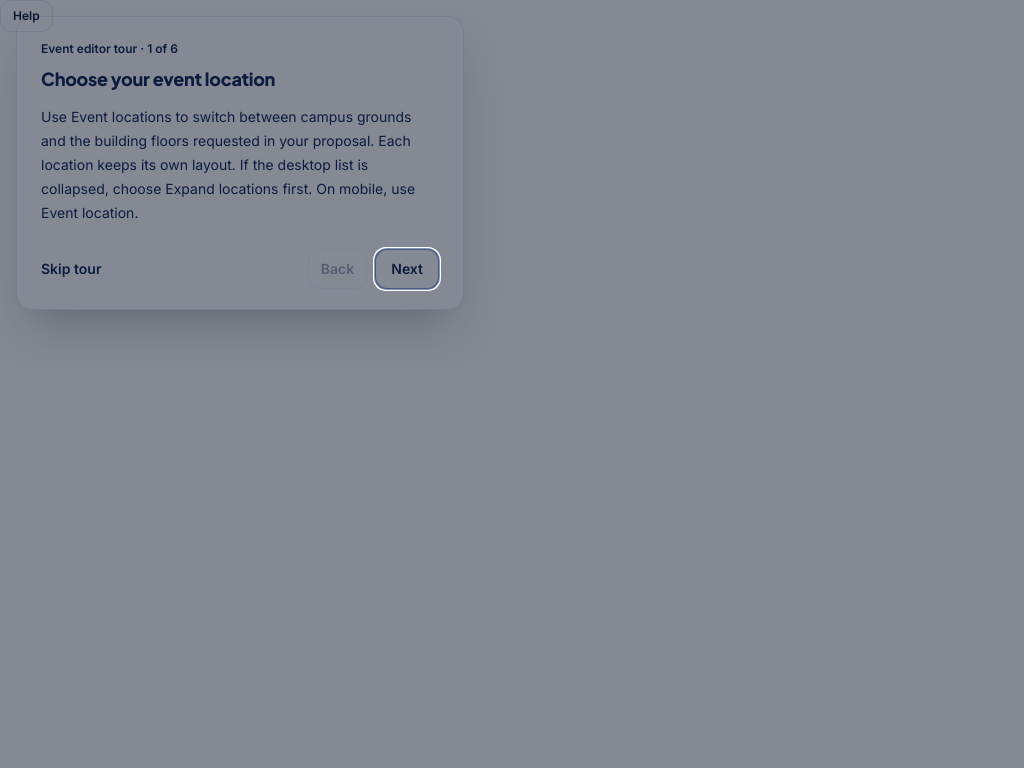
Scenario: EventEditorTutorial › uses current placement, arrangement, Details, and submission language
Expected: the heading "Choose your event location" is shown, [41,67,275,90]
Click the button "Next". click: (407, 269)
box: [375,249,439,289]
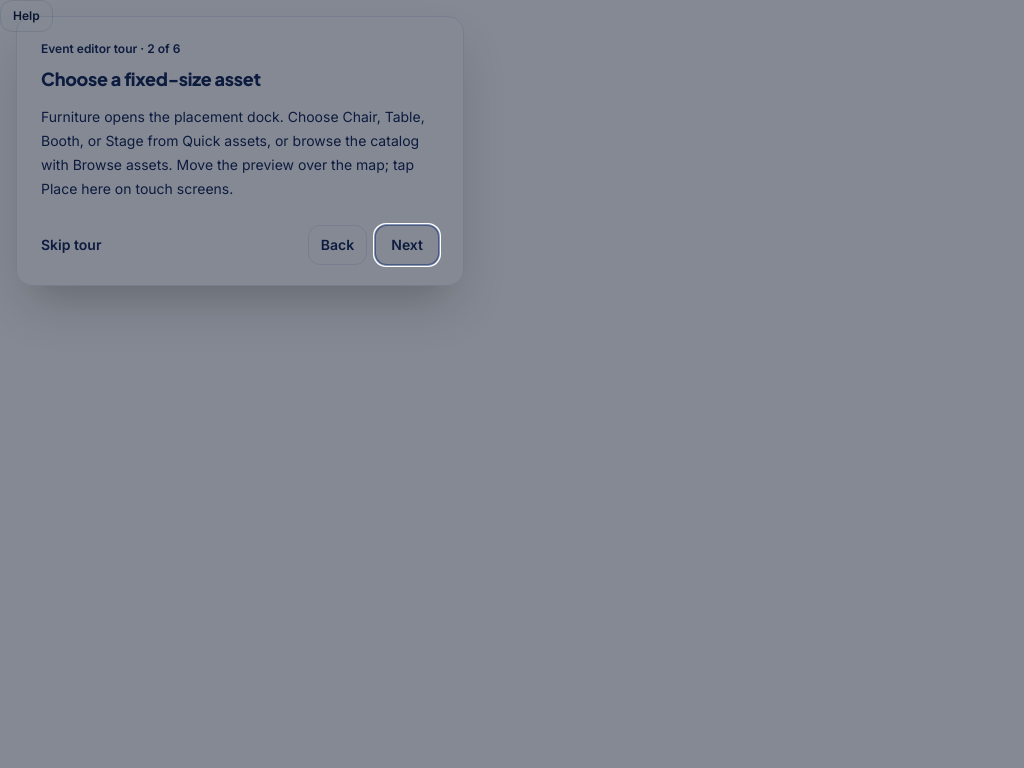
Now the heading "Choose a fixed-size asset" is shown, box [41,67,261,90]
Now the text "Browse assets" is shown, box [41,108,425,197]
Click the button "Next". click: (407, 245)
box: [375,225,439,265]
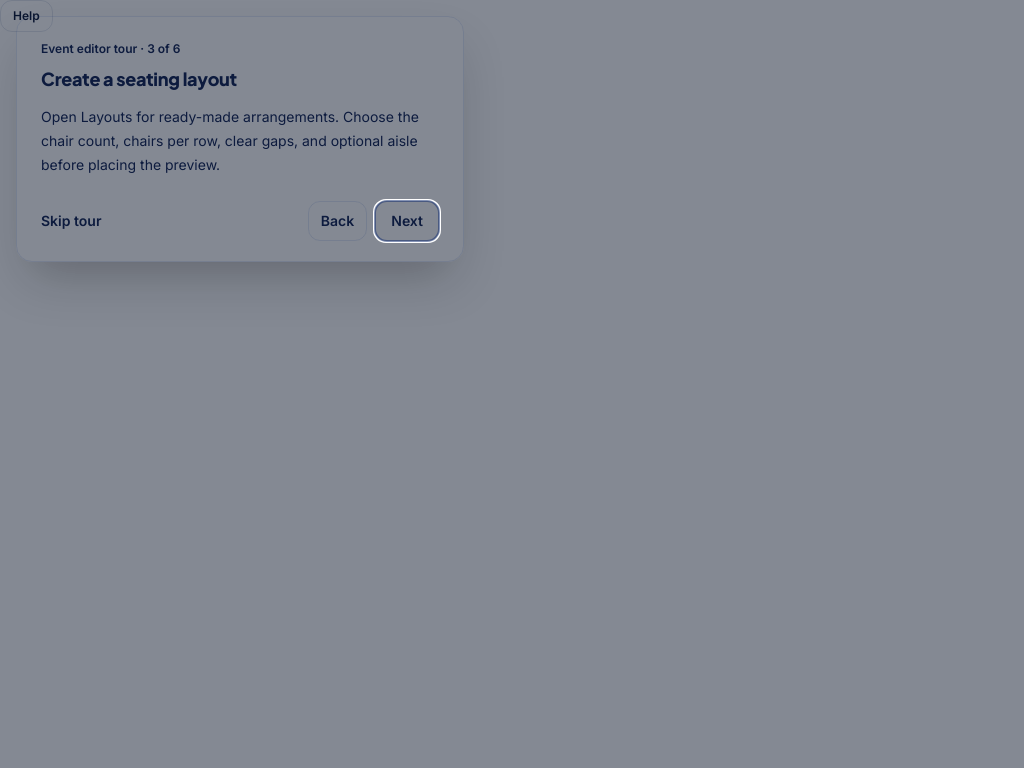
Now the heading "Create a seating layout" is shown, box [41,67,237,90]
Now the text "Layouts" is shown, box [41,108,419,173]
Click the button "Next". click: (407, 221)
box: [375,201,439,241]
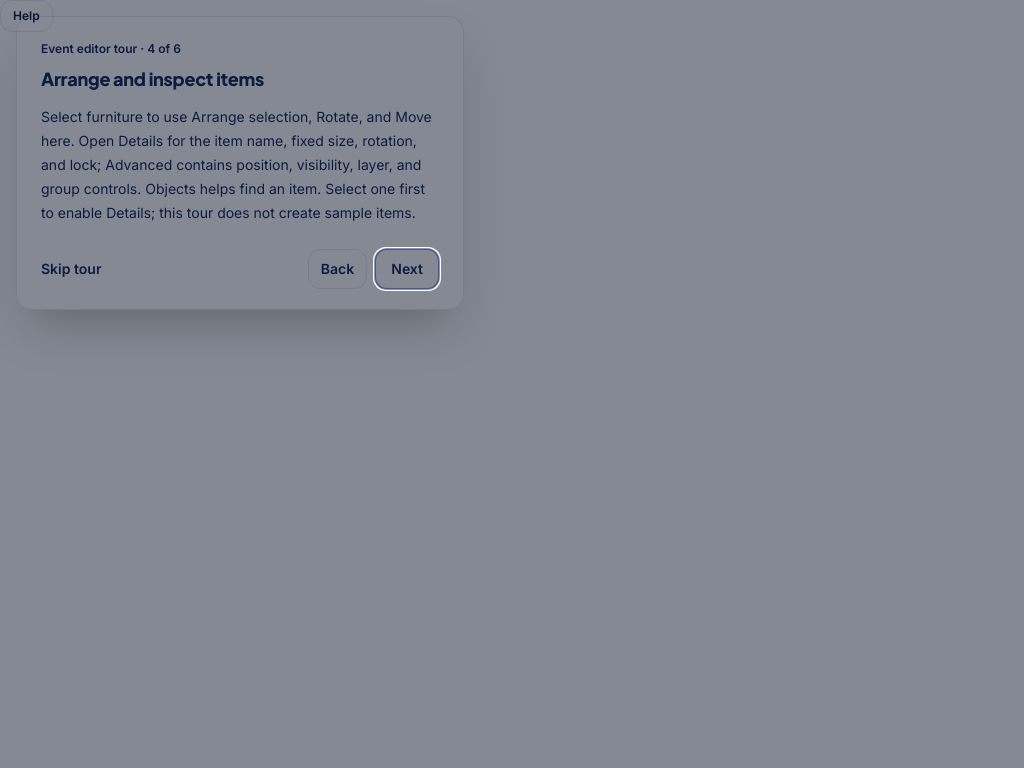
Now the heading "Arrange and inspect items" is shown, box [41,67,264,90]
Now the text "does not create sample items" is shown, box [41,108,432,221]
Click the button "Next". click: (407, 269)
box: [375,249,439,289]
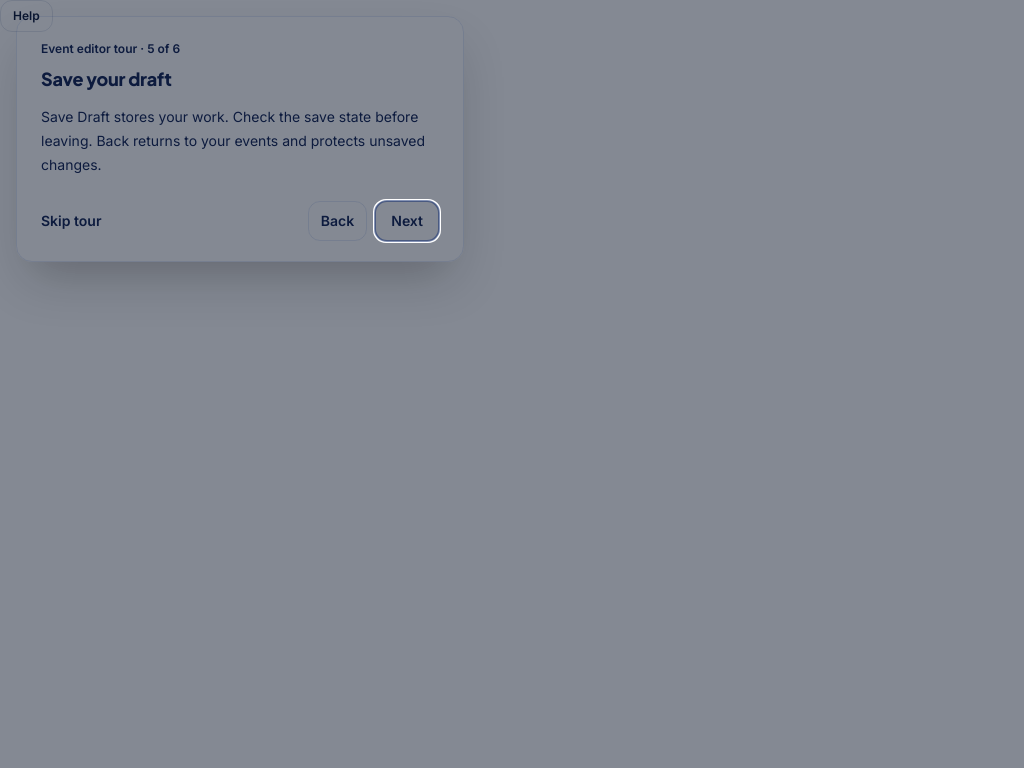
Now the heading "Save your draft" is shown, box [41,67,172,90]
Click the button "Next". click: (407, 221)
box: [375,201,439,241]
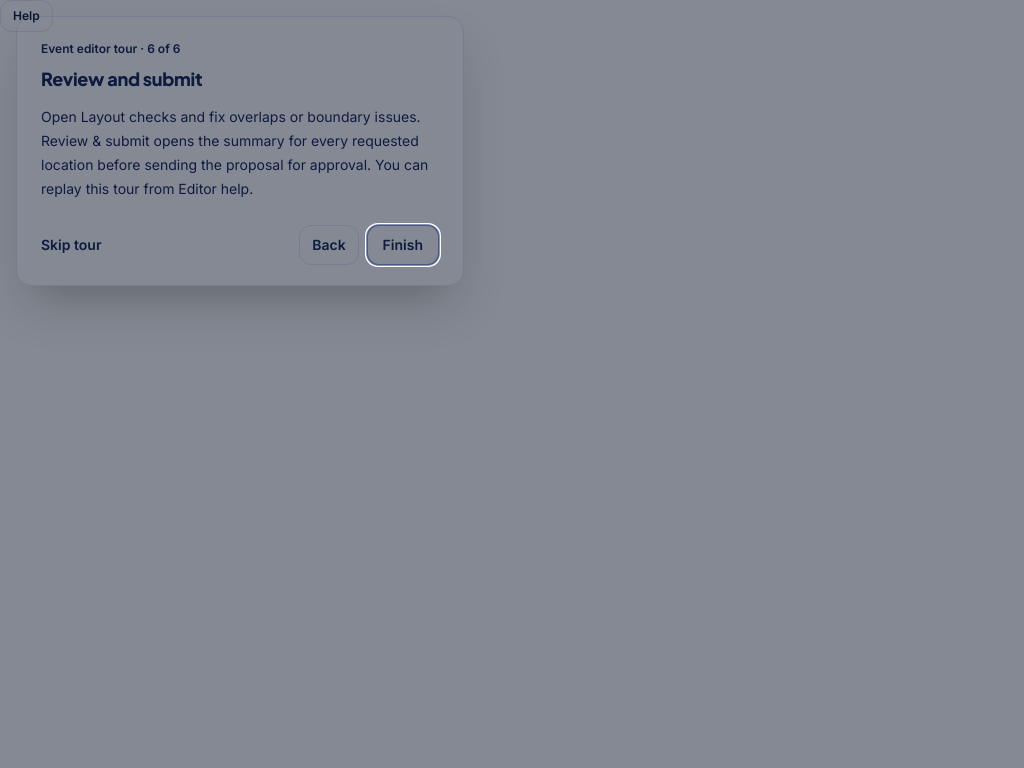
Now the heading "Review and submit" is shown, box [41,67,202,90]
Now the text "Review & submit" is shown, box [41,108,428,197]
